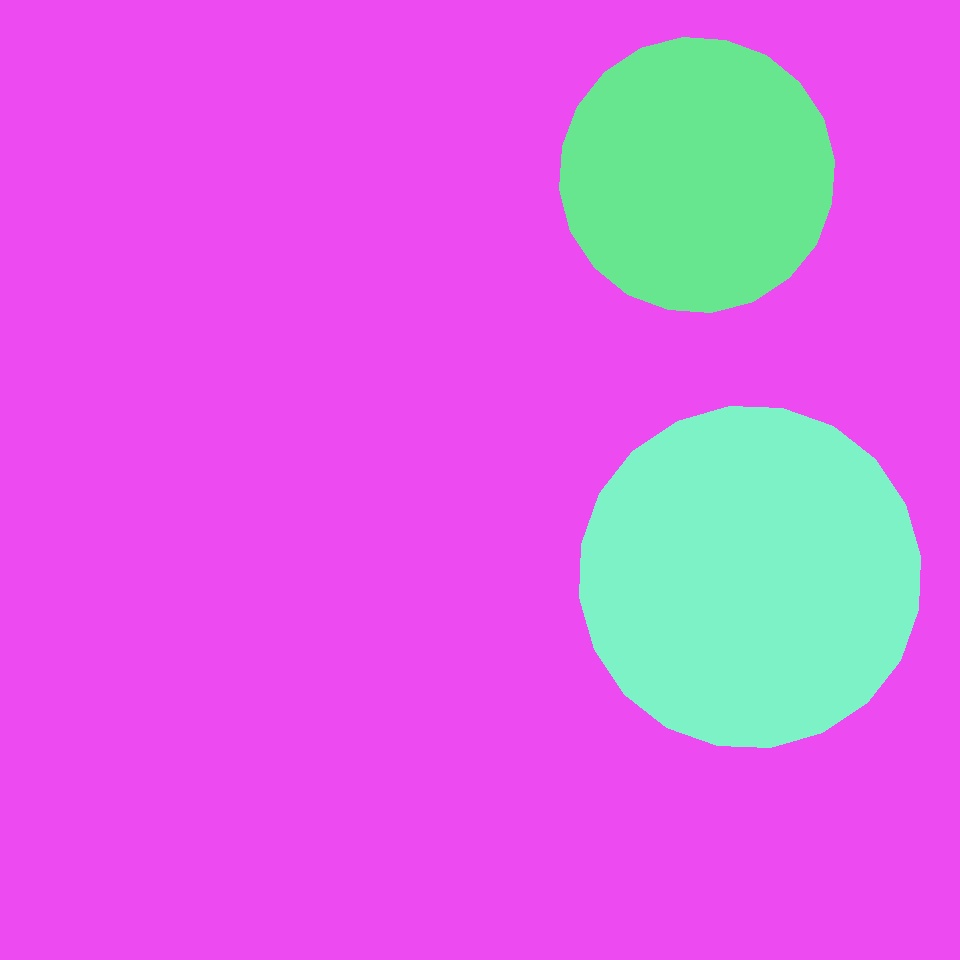circle: (491, 368, 715, 604), (540, 190, 643, 282)
triangle: (580, 406, 920, 748), (560, 38, 834, 312), (304, 249, 483, 427)
